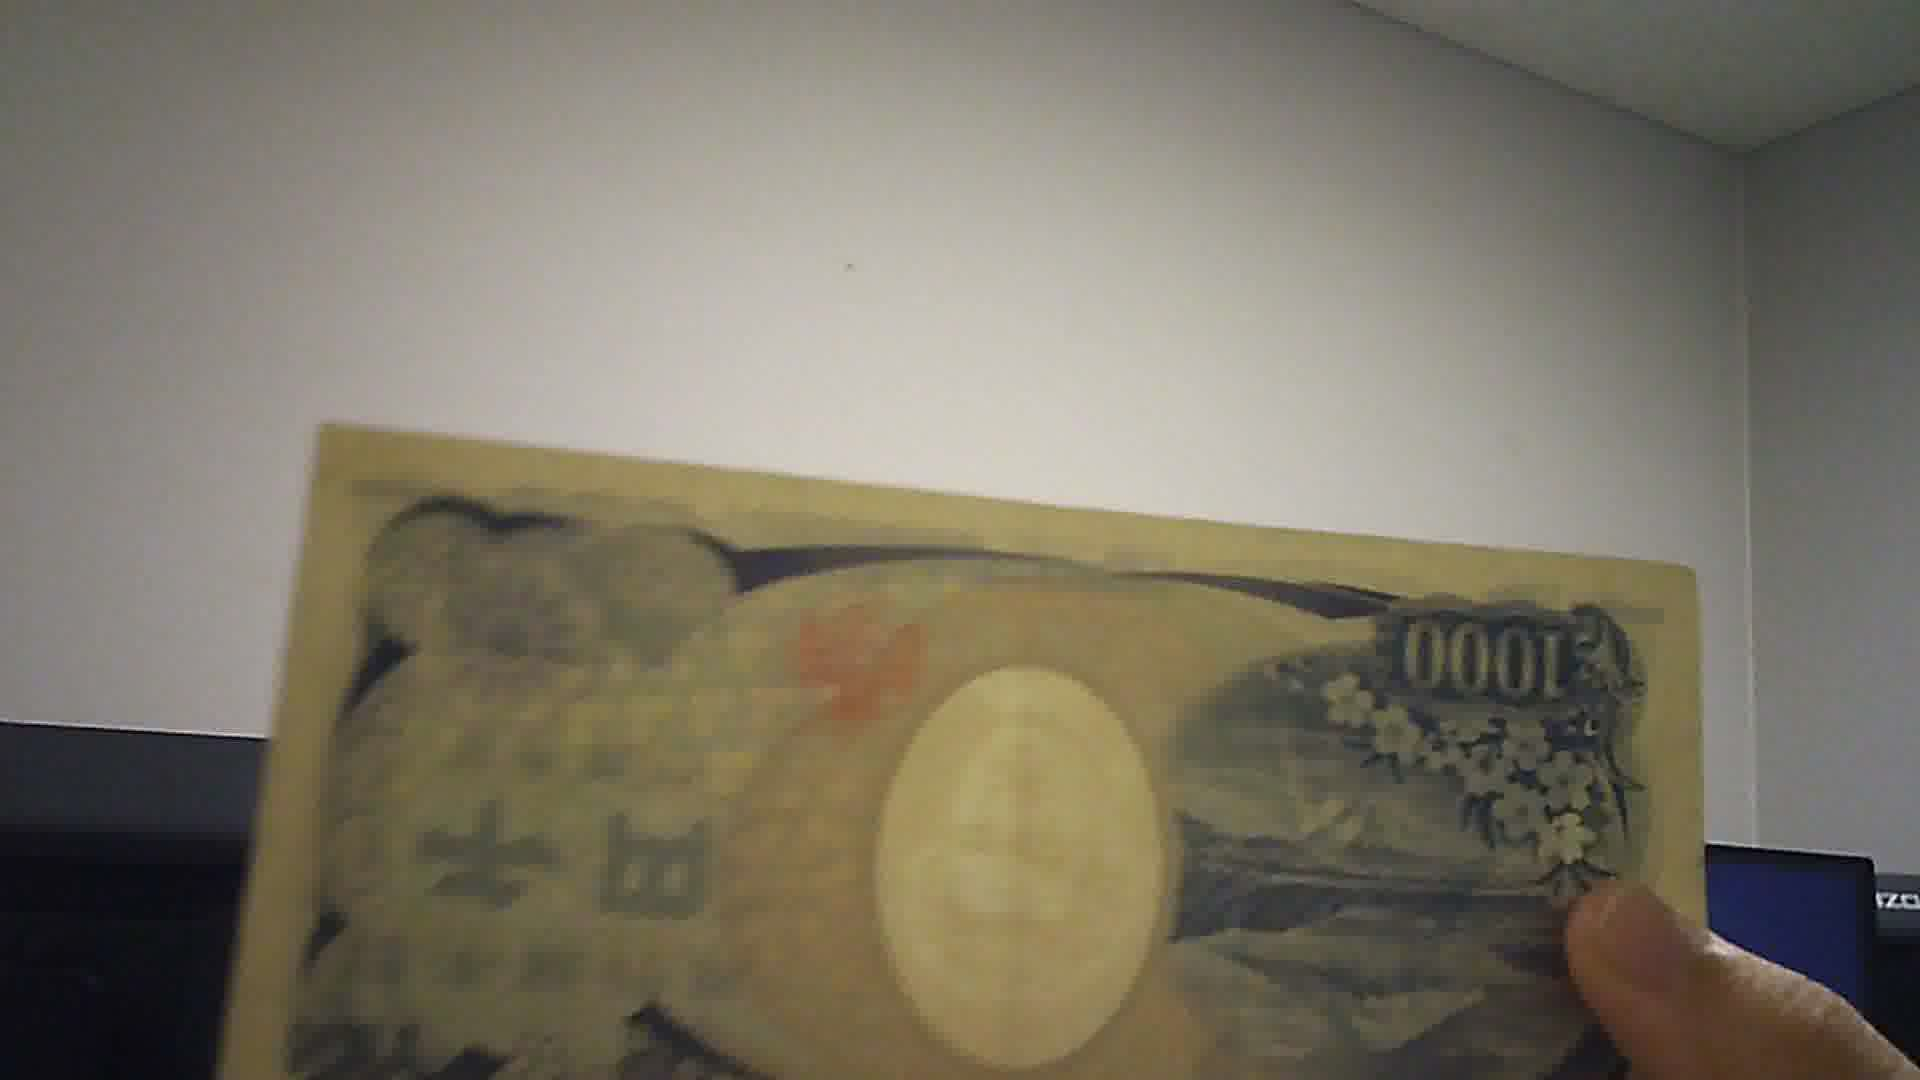1,000 Yen: (237, 411, 1691, 1079)
